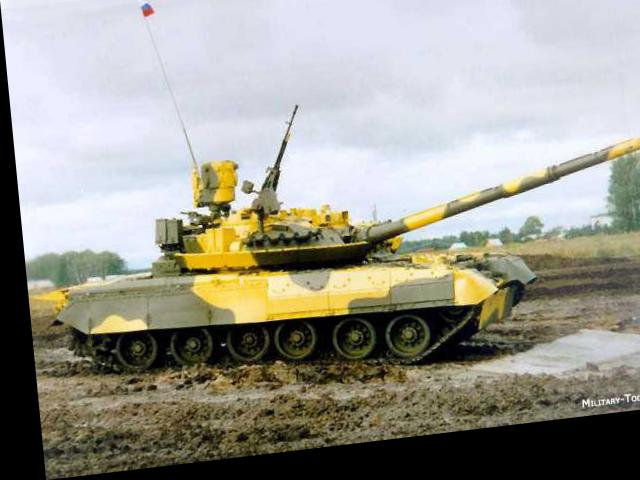tank: (46, 135, 526, 388)
